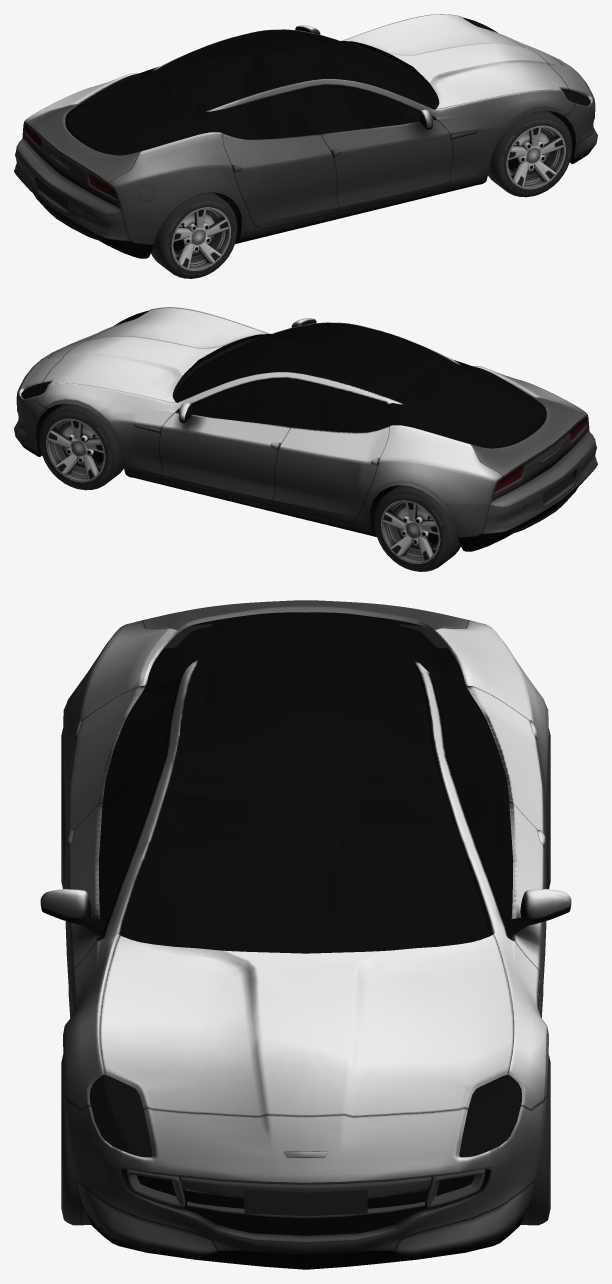
3 views of the same model, one above another, from view 1: azimuth 30°, elevation 25°; view 2: azimuth 150°, elevation 25°; view 3: azimuth 270°, elevation 25° (orthographic). The views are drawn at different scales.
Parts seen in each view (by area): view 1: CarBody, Car_Windows, Car_Wheels, Car_Bottom, Car_Taillights, Car_HeadlightsGlass; view 2: CarBody, Car_Windows, Car_Wheels, Car_Bottom, Car_Taillights, Car_HeadlightsGlass; view 3: CarBody, Car_Windows, Car_Grill, Car_HeadlightsGlass, Car_Bumper, Car_Wheels, Car_Interior.
Boxes of the visible parts, x1,y1,x2,y2 form: CarBody: (14,14,597,258); Car_Windows: (65,30,438,155); Car_Wheels: (151,110,572,278); Car_Bottom: (213,110,575,243); Car_Taillights: (26,126,116,198); Car_HeadlightsGlass: (462,17,590,105); CarBody: (14,307,597,551); Car_Windows: (173,323,546,448); Car_Wheels: (39,403,460,571); Car_Bottom: (36,403,398,536); Car_Taillights: (495,419,585,491); Car_HeadlightsGlass: (21,310,149,398); CarBody: (40,600,571,1259); Car_Windows: (98,612,513,953); Car_Grill: (124,1169,487,1269); Car_HeadlightsGlass: (90,1074,521,1157); Car_Bumper: (126,1169,485,1218); Car_Wheels: (61,728,550,1225); Car_Interior: (244,1189,367,1216).
Size of what is drawn, in the model's own units: 36.88 by 9.99 by 16.2.
Materials: 12 (5 with a texture image).
